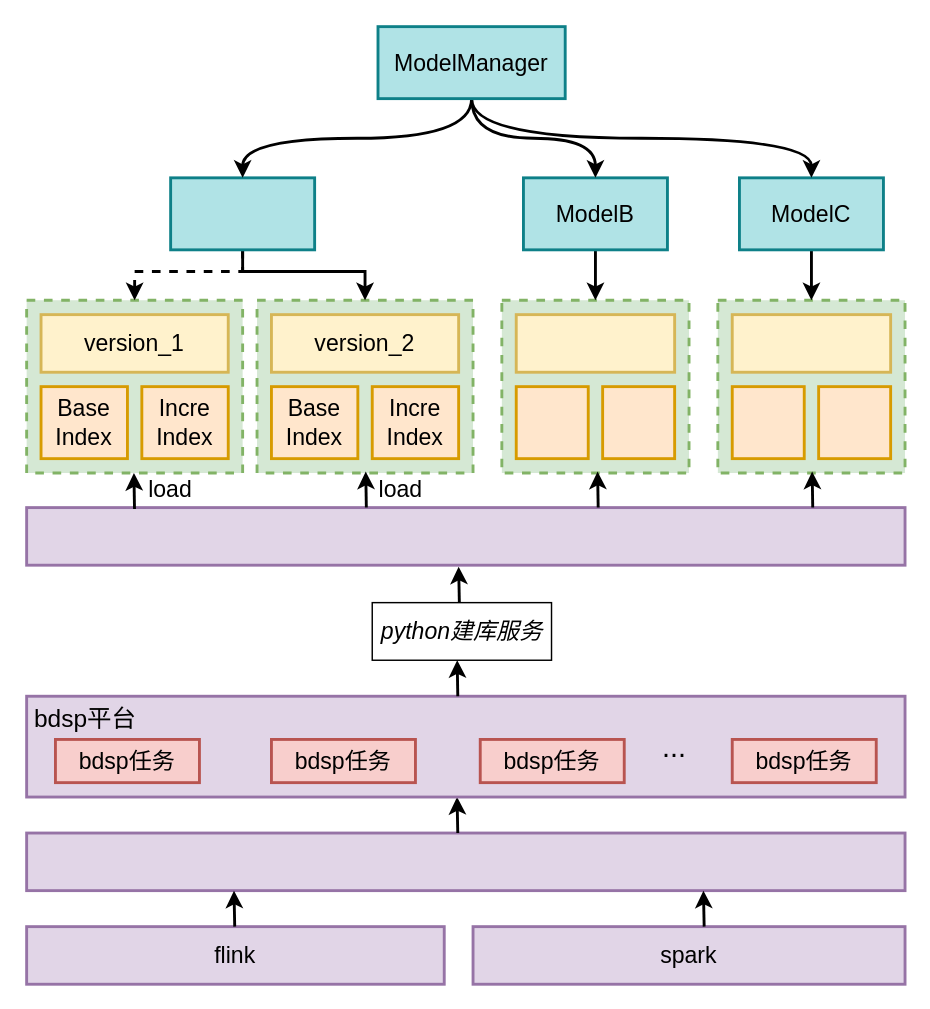
Some shapes in this 930 by 1009 pixel diagram are drawn without their labels. The shapes that lost their labels are listed below. From the top down, each one's box as (x1, y1, x2, y2) in pixels, then its label:
(168, 176, 315, 251): ModelA
(24, 505, 906, 566): ceph集群
(24, 831, 906, 891): hive集群
